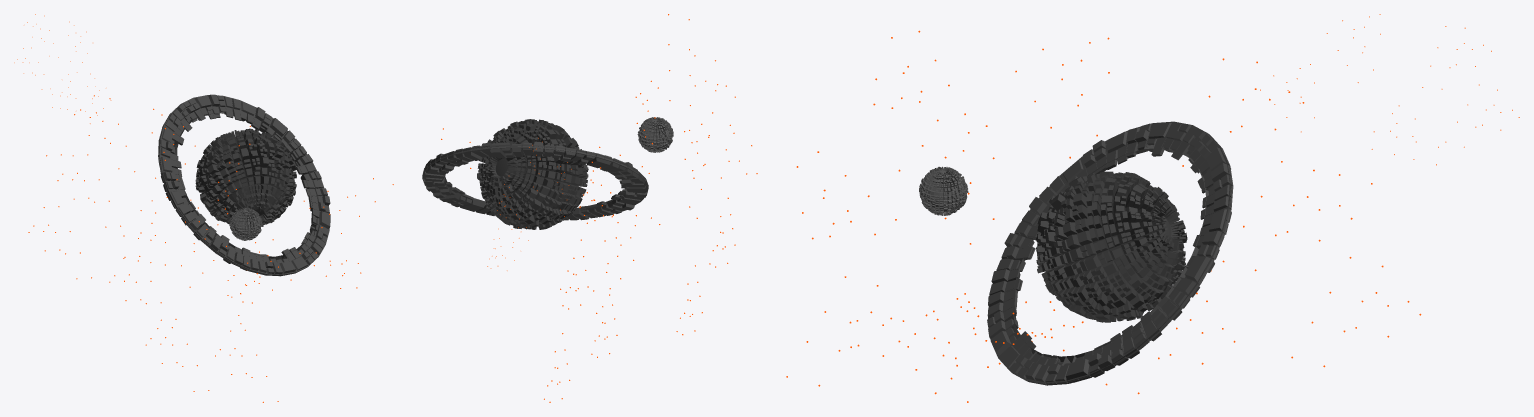
File: sci-fi planet.glb
The picture shows the model from 3 angles, left to right: view 1: azimuth 30°, elevation 25°; view 2: azimuth 150°, elevation 25°; view 3: azimuth 270°, elevation 25°; orthographic projection. The views are drawn at different scales.
Parts seen in each view (by area): view 1: Sphere, Sphere.021; view 2: Sphere, Sphere.021; view 3: Sphere, Sphere.021.
Part boxes in pixels (left/top/right/bottom): Sphere: left=158, top=94, right=330, bottom=276; Sphere.021: left=229, top=208, right=262, bottom=240; Sphere: left=422, top=119, right=648, bottom=229; Sphere.021: left=637, top=117, right=673, bottom=152; Sphere: left=987, top=121, right=1233, bottom=385; Sphere.021: left=919, top=166, right=968, bottom=215.
Size of the model in its own units: 265 by 294 by 486.
4 materials, 3 textured.
